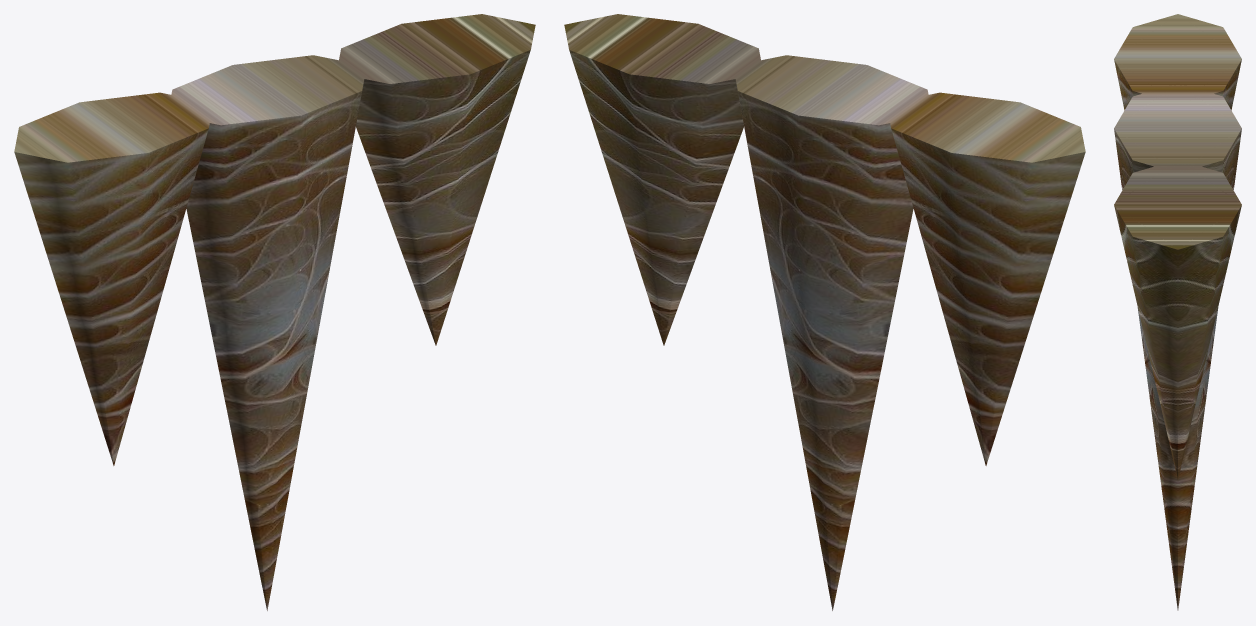
File: Estalagmita.FBX
3 renders of one model, left to right at view 1: azimuth 30°, elevation 25°; view 2: azimuth 150°, elevation 25°; view 3: azimuth 270°, elevation 25°, orthographic. The views are drawn at different scales.
Visible parts, largest first — view 1: Box001; view 2: Box001; view 3: Box001.
Boxes of the visible parts, bbox=[...] form: Box001: bbox=[14, 14, 535, 610]; Box001: bbox=[564, 14, 1085, 610]; Box001: bbox=[1114, 14, 1241, 610].
Bounding box in the file's own units: 409 × 391 × 93.86.
Materials: 1 (1 with a texture image).
